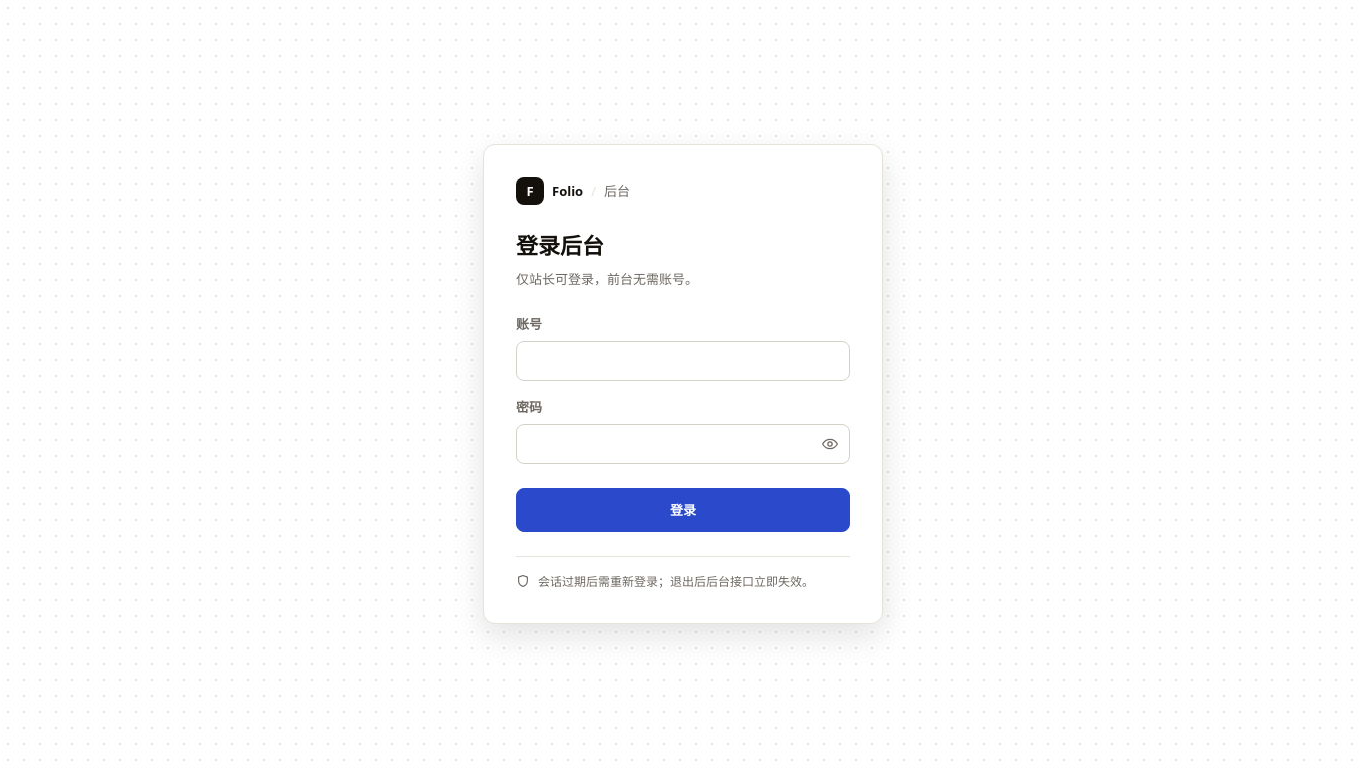
Scenario: LoginView（D1） › 重新输入即撤销错误态（不留旧错）
The width and height of the screenshot is (1366, 768).
In the field labelled "账号": (683, 361) 516,341 -> 850,381, type "admin"
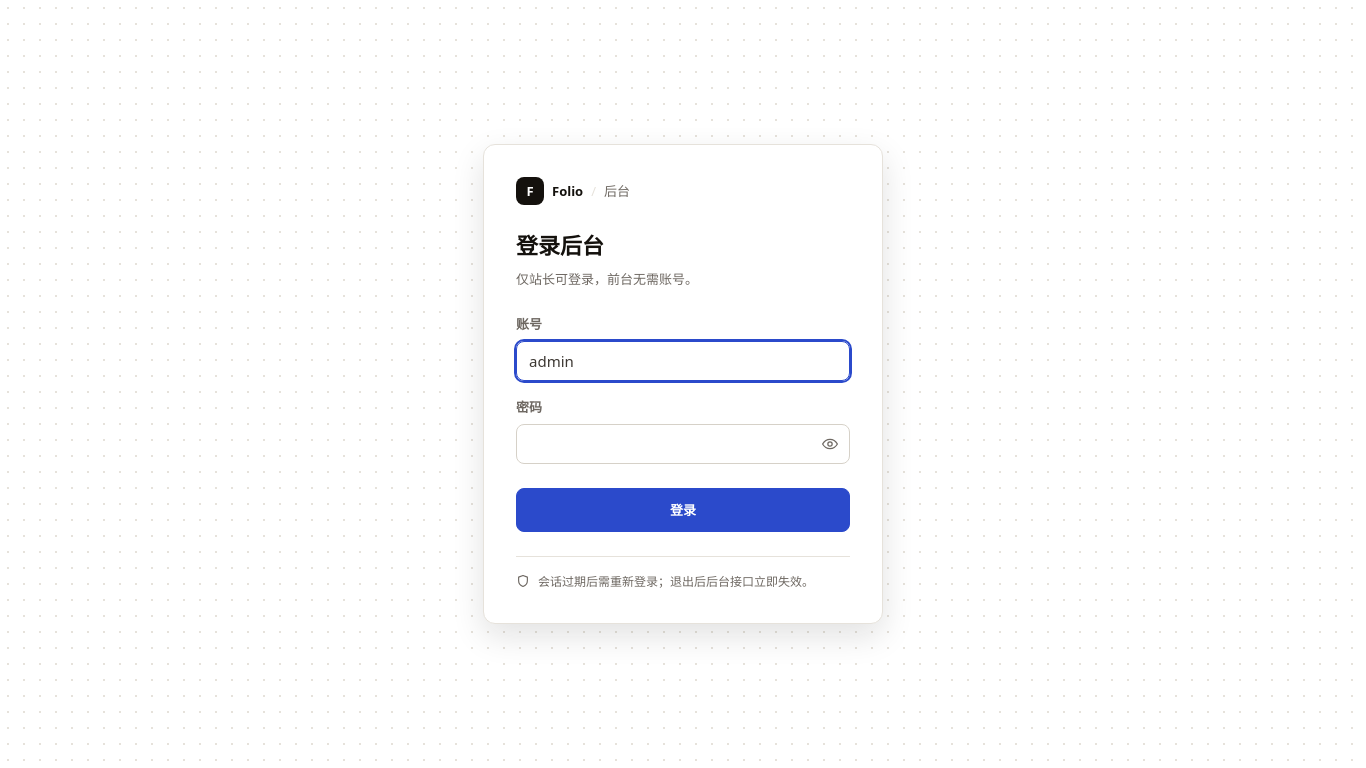
In the password field labelled "密码": (683, 444) 516,424 -> 850,464, type "wrong"
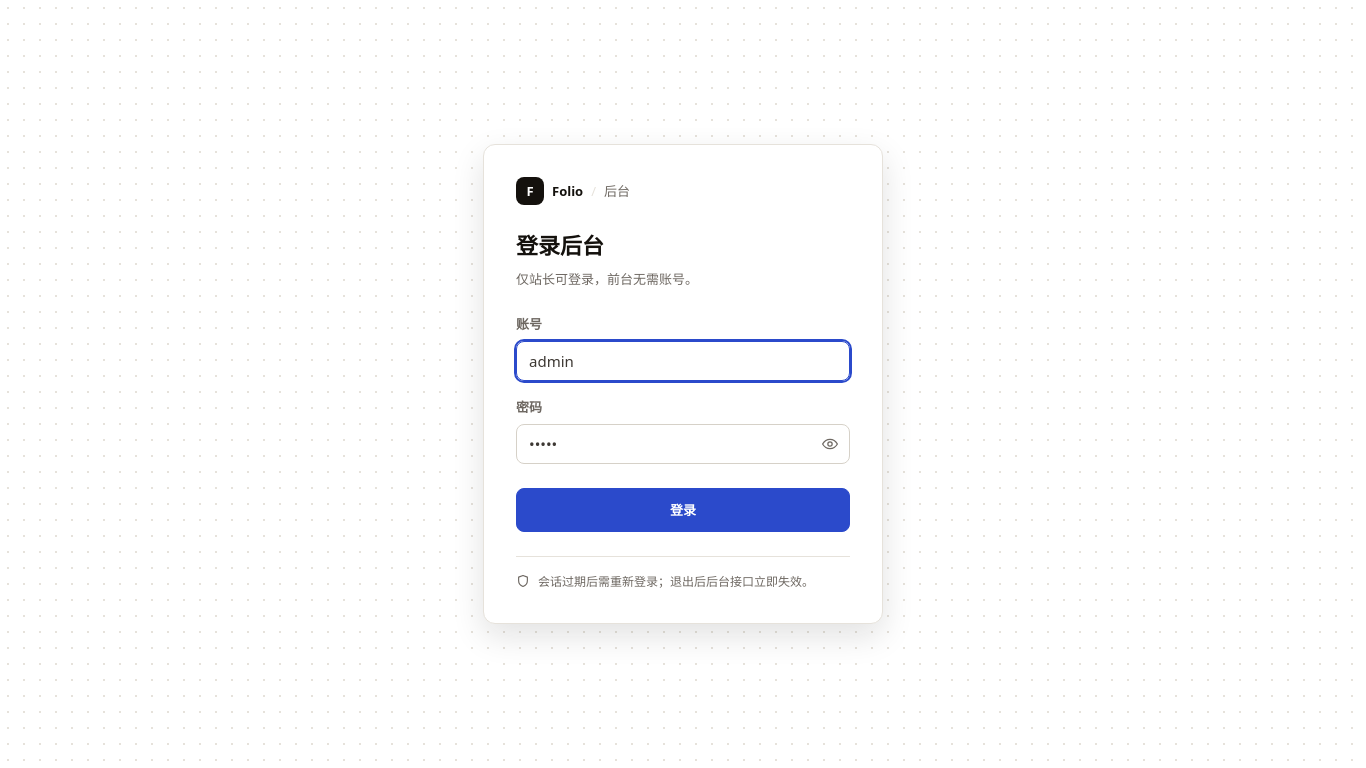
Click the button "登录": (683, 510) 516,488 -> 850,532
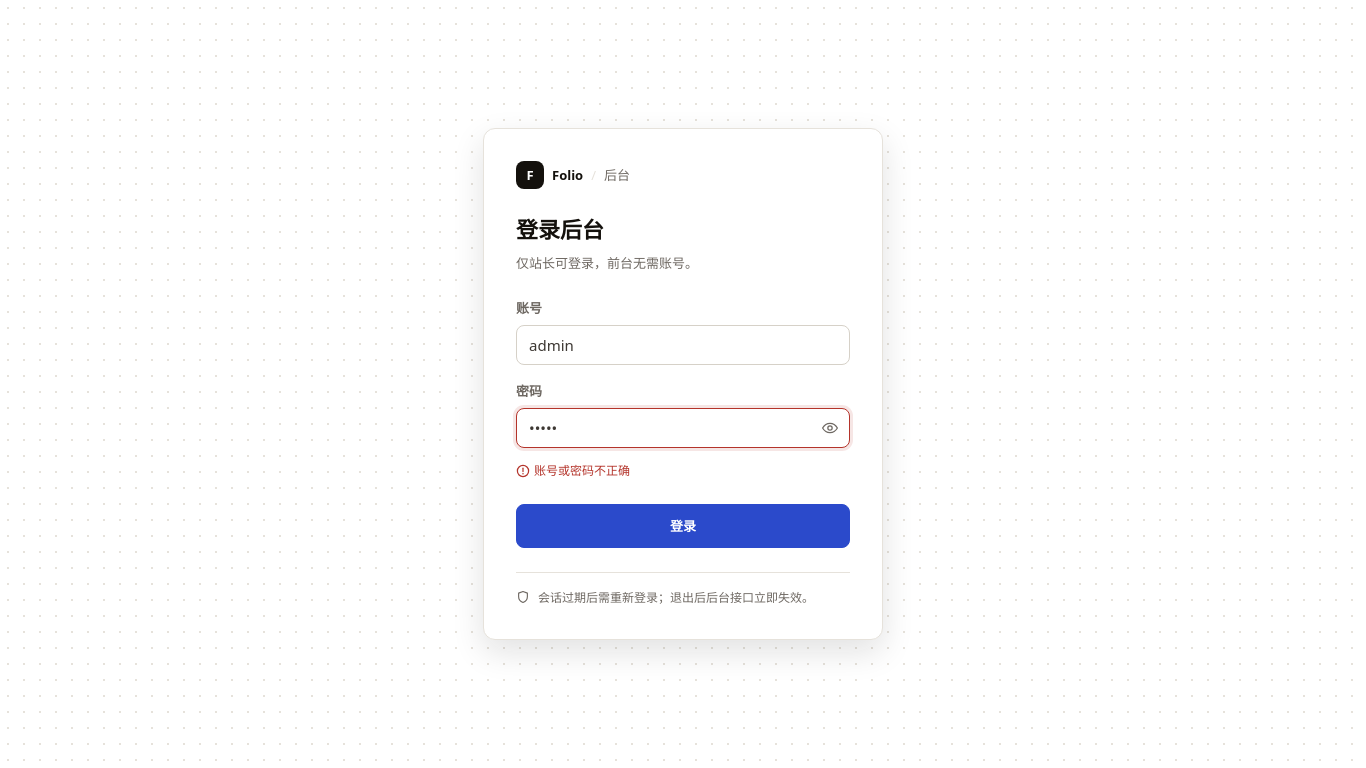
Expected: the message "账号或密码不正确" is shown, 516,462 -> 630,479
In the password field labelled "密码": (683, 428) 516,408 -> 850,448, type "again"
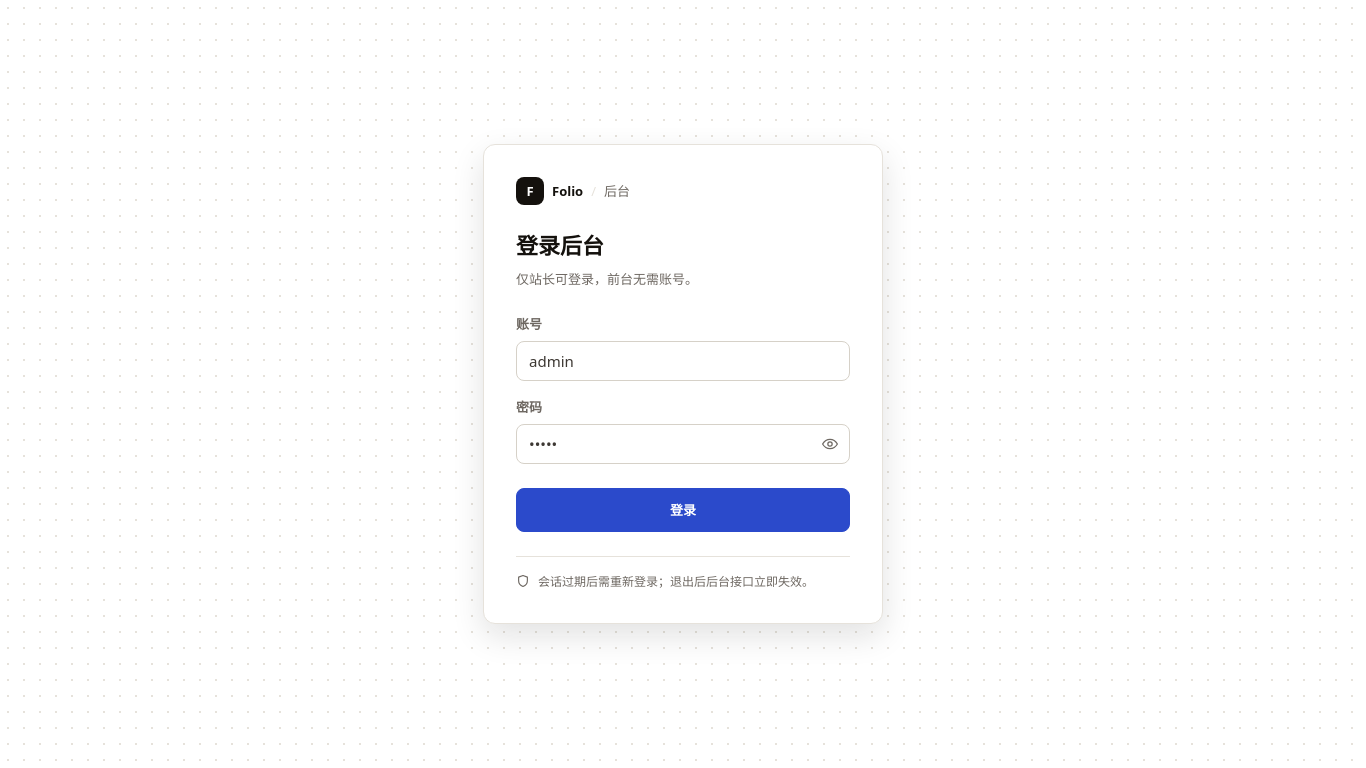
Expected: the message "账号或密码不正确" is gone
